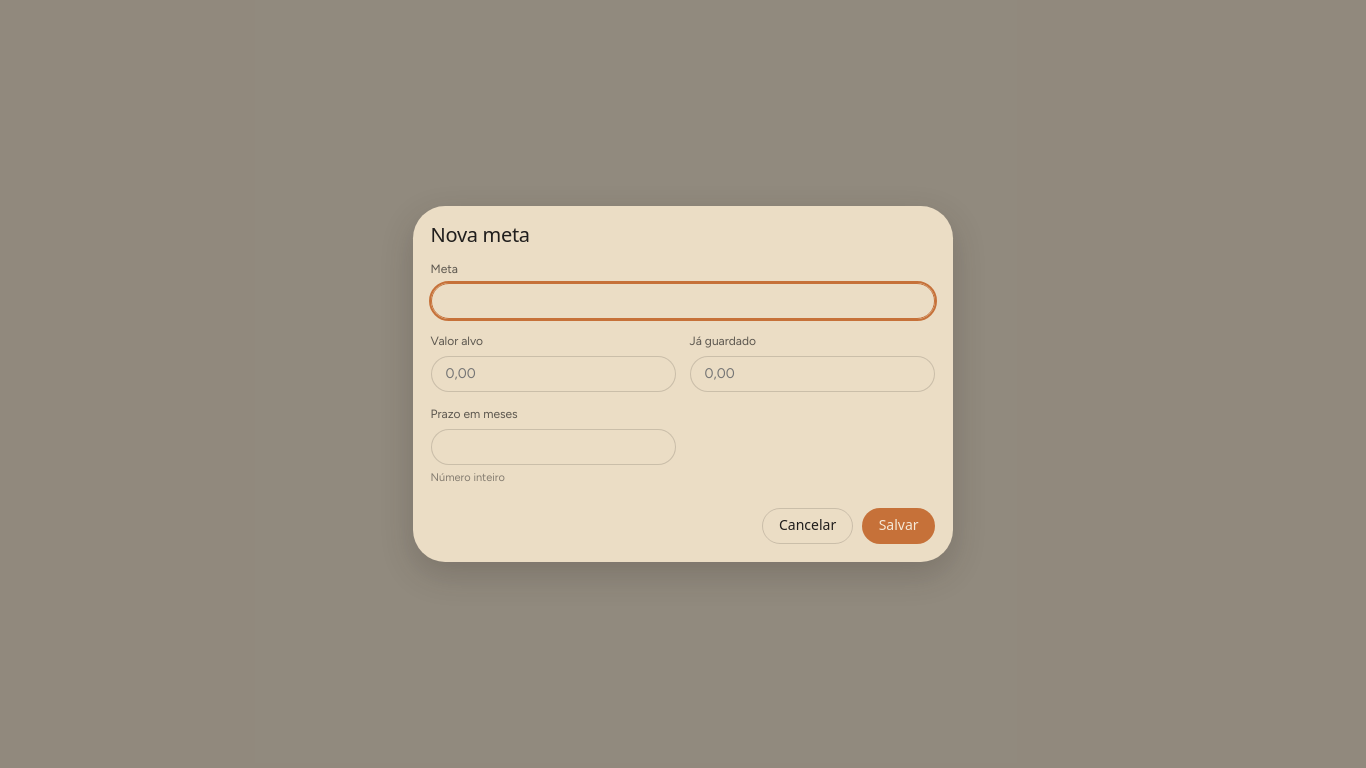
Scenario: erros vindos da API › mostra o erro por campo que a API devolve
Type "Reserva" into the field labelled "Meta". click: (683, 301)
box: [431,283,935,319]
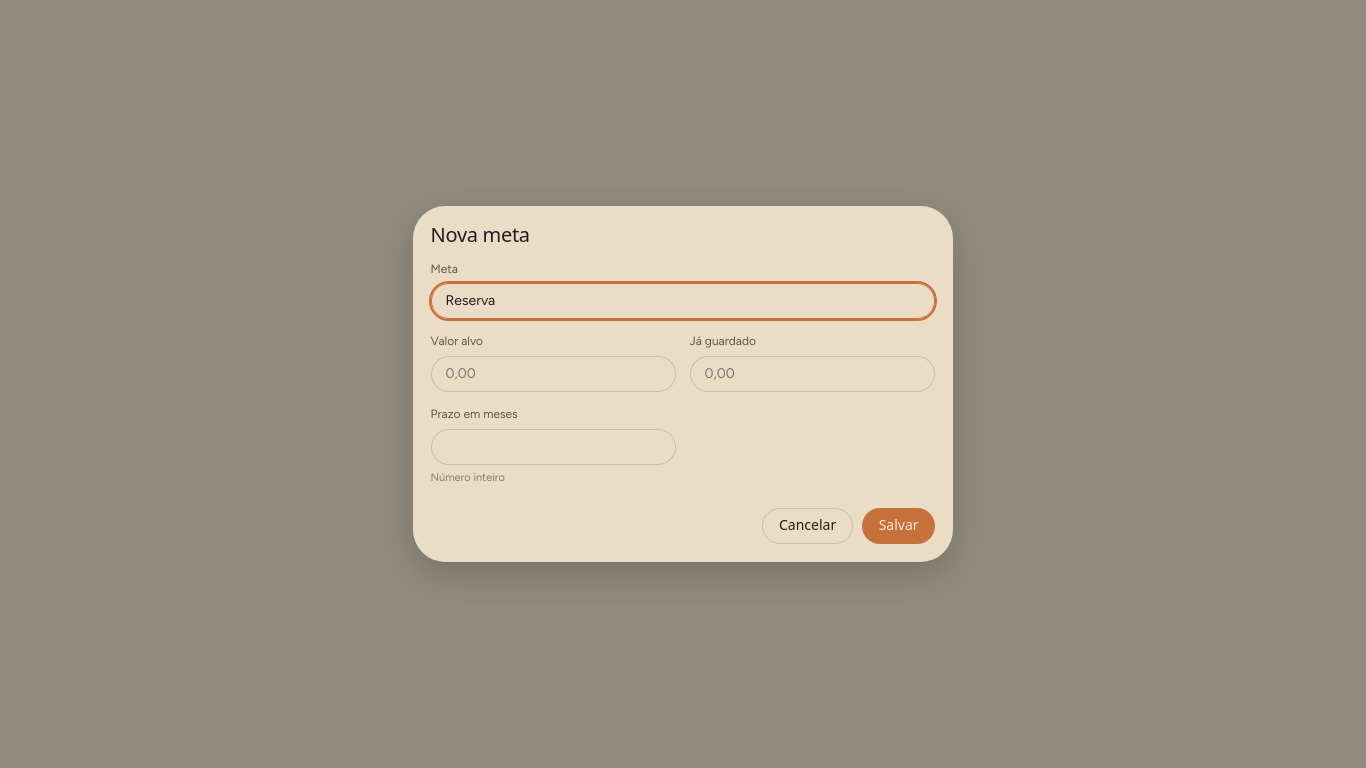
Type "1000" into the field labelled "Valor alvo". click: (554, 374)
box: [431,356,676,392]
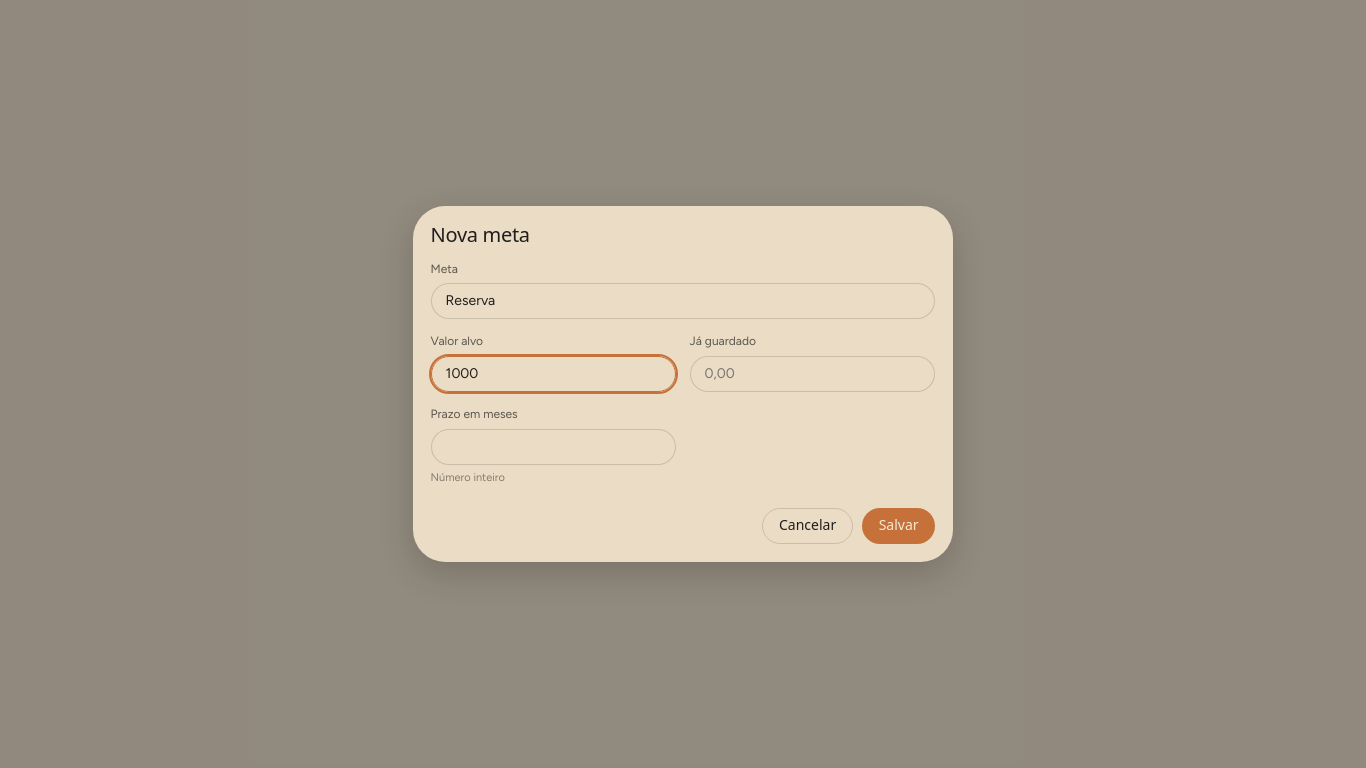
Type "0" into the field labelled "Já guardado". click: (812, 374)
box: [690,356,935,392]
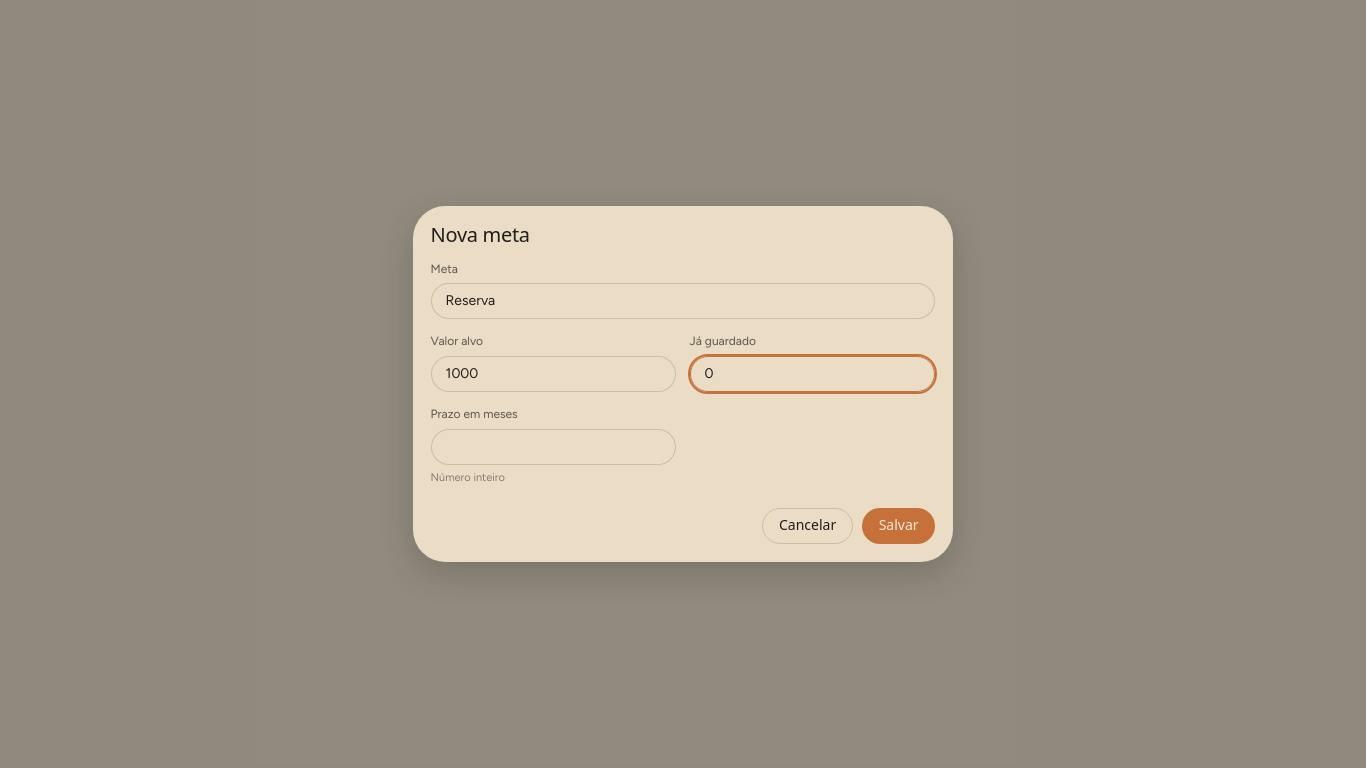
Type "12" into the number field labelled "Prazo em meses". click: (554, 447)
box: [431,429,676,465]
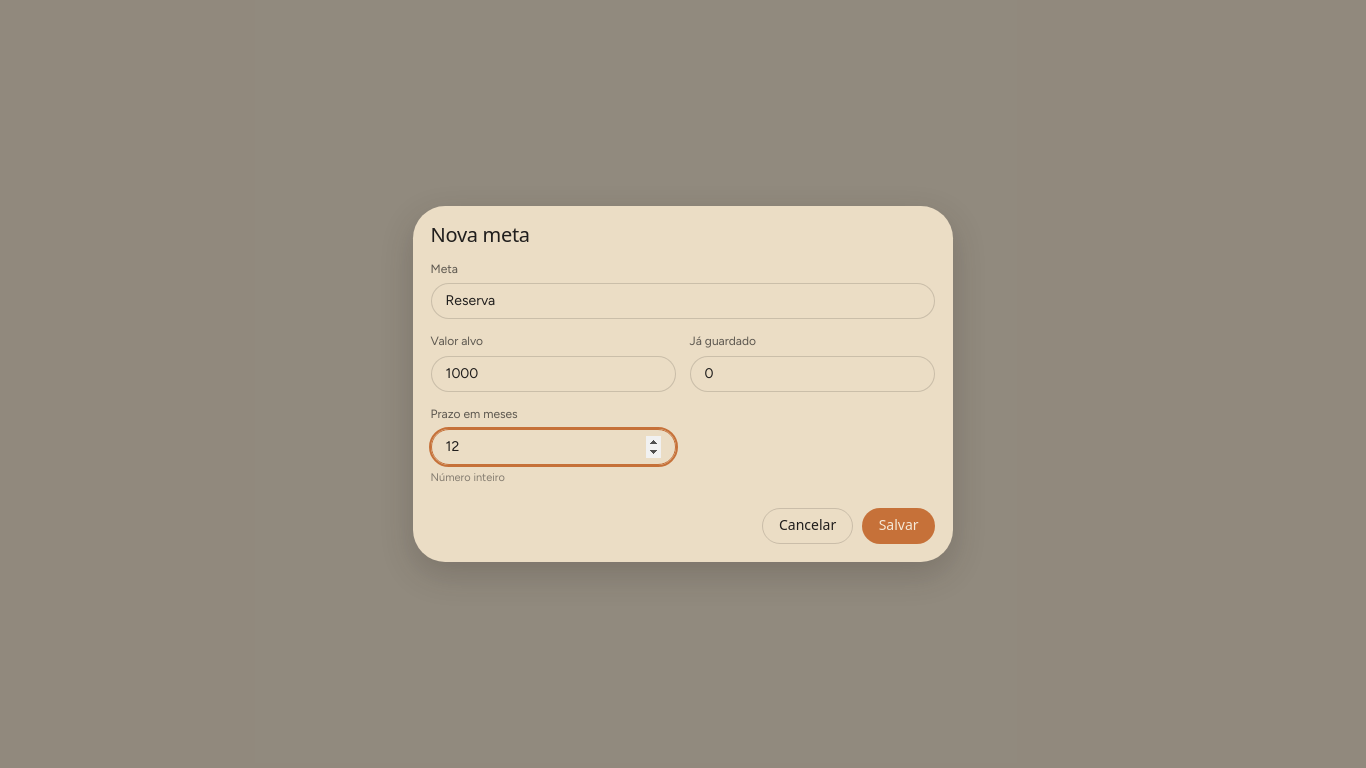
Click the button "Salvar". click: (899, 526)
box: [862,508,935,544]
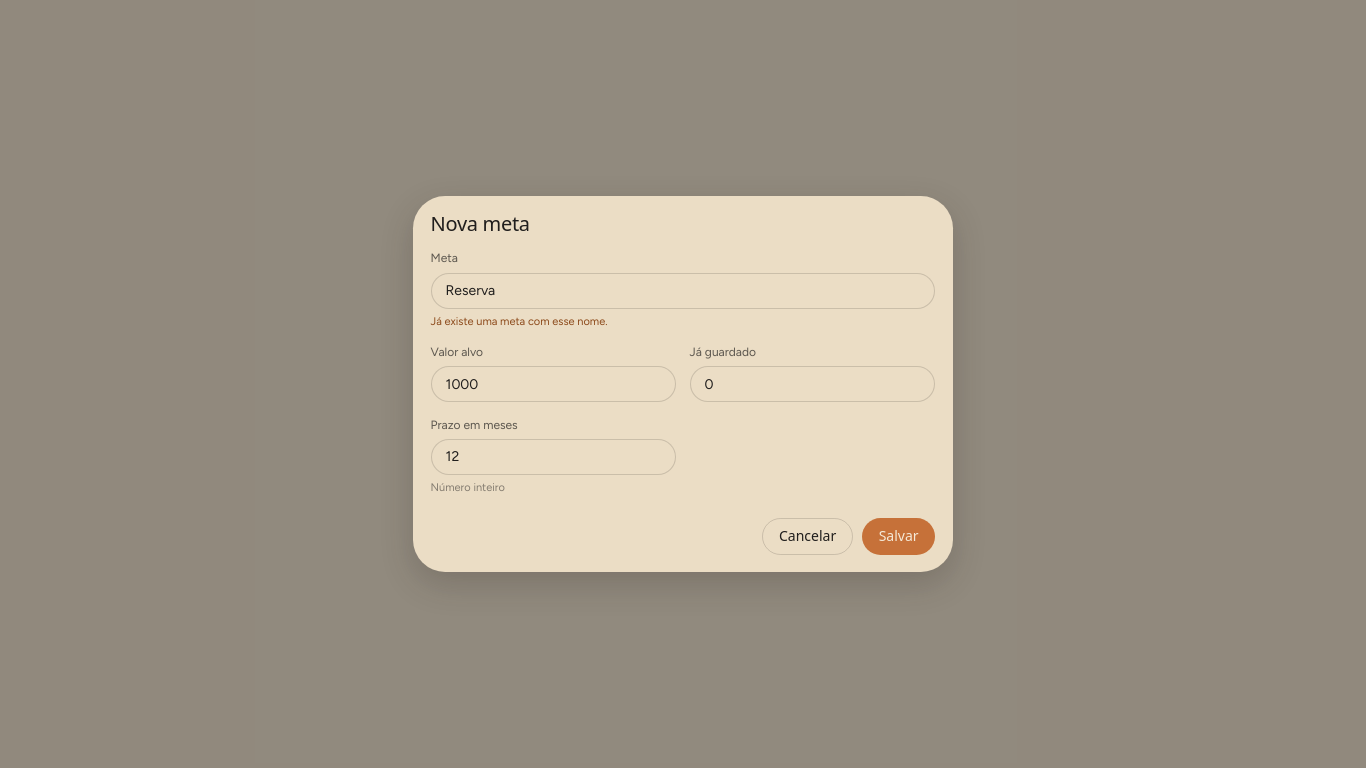
Expected: the text "Já existe uma meta com esse nome." is shown, [431,315,608,328]
